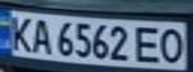2: (109, 23, 133, 62)
5: (72, 20, 93, 60)
6: (51, 19, 75, 57), (90, 21, 112, 61)
A: (27, 16, 54, 55)
E: (133, 24, 166, 64)
K: (3, 14, 36, 53)
O: (154, 26, 190, 64)
